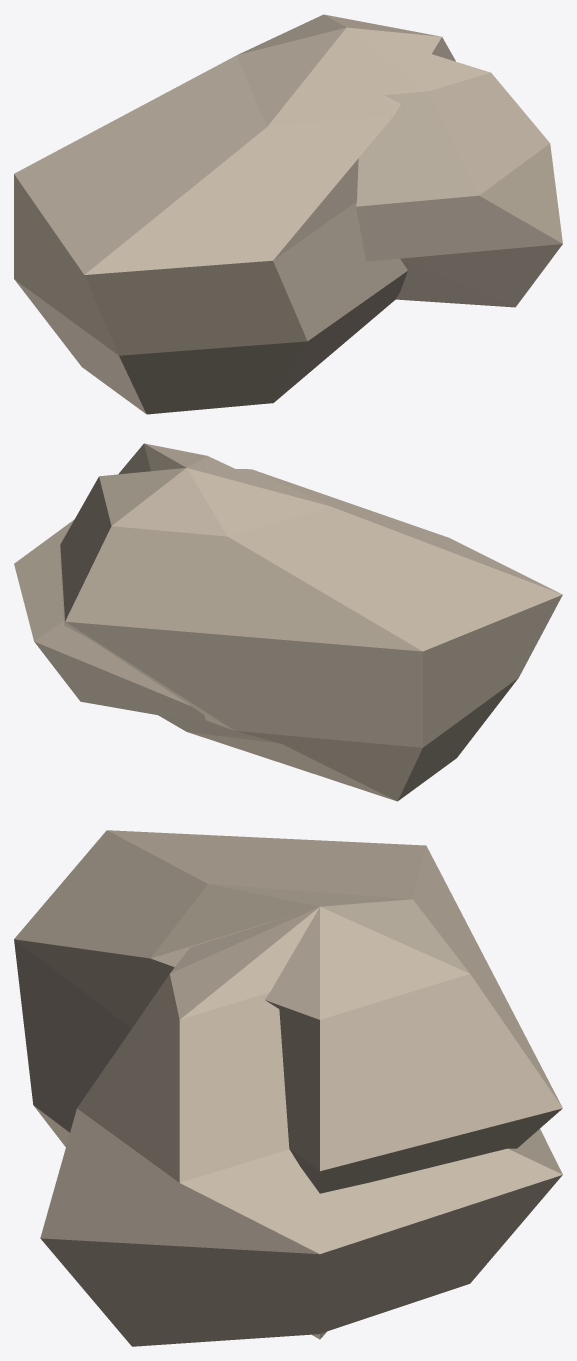
Rendered from Large Rock.fbx.
The picture shows the model from 3 angles, top to bottom: view 1: azimuth 30°, elevation 25°; view 2: azimuth 150°, elevation 25°; view 3: azimuth 270°, elevation 25°; orthographic projection. The views are drawn at different scales.
Parts seen in each view (by area): view 1: pSphere1, pSphere2; view 2: pSphere1, pSphere2; view 3: pSphere1, pSphere2.
Part boxes in pixels (x1,y1,x2,y2): pSphere1: [14, 14, 455, 414]; pSphere2: [347, 28, 562, 307]; pSphere1: [60, 468, 562, 801]; pSphere2: [14, 443, 234, 726]; pSphere1: [14, 830, 562, 1339]; pSphere2: [40, 907, 562, 1346].
Bounding box in the file's own units: 3.23 × 1.71 × 2.04.
